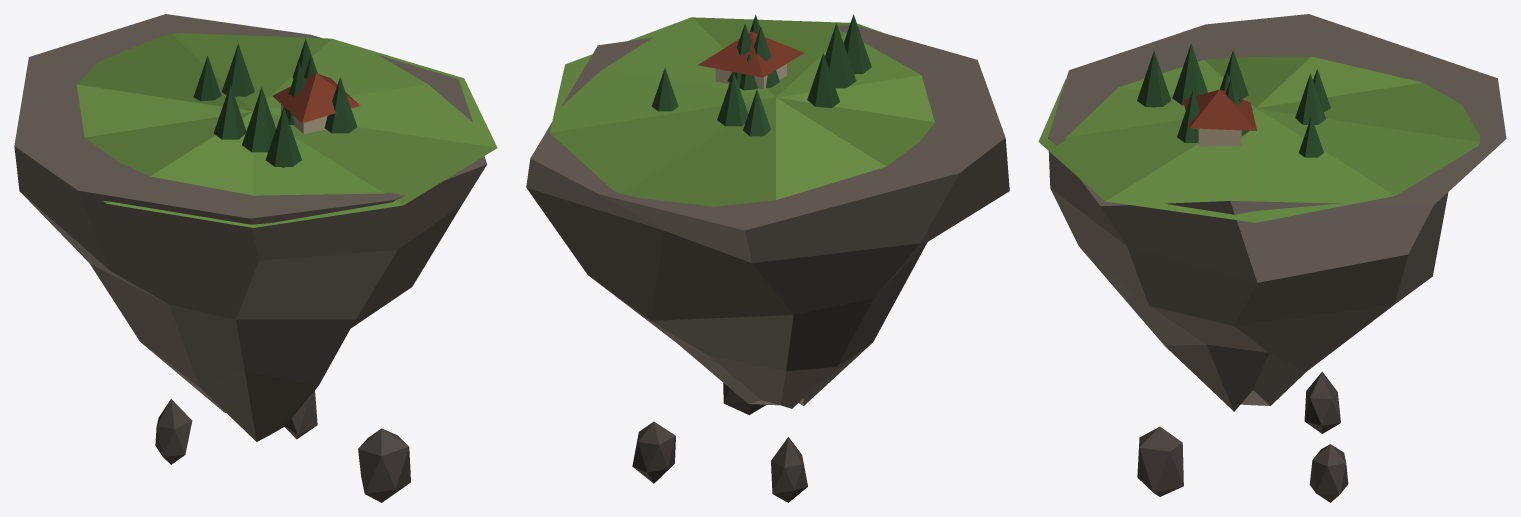
Rendered from floating_island_3.glb.
3 renders of one model, left to right at view 1: azimuth 30°, elevation 25°; view 2: azimuth 150°, elevation 25°; view 3: azimuth 270°, elevation 25°, orthographic. The views are drawn at different scales.
Parts seen in each view (by area): view 1: floating_island_3_rock, floating_island_3_grass_cap, floating_island_3_hanging_rock1, floating_island_3_house_roof, floating_island_3_hanging_rock2, floating_island_3_tree3_crown, floating_island_3_tree4_crown, floating_island_3_tree7_crown, floating_island_3_tree6_crown, floating_island_3_tree5_crown, floating_island_3_hanging_rock0, floating_island_3_tree2_crown; view 2: floating_island_3_rock, floating_island_3_grass_cap, floating_island_3_house_roof, floating_island_3_hanging_rock0, floating_island_3_hanging_rock2, floating_island_3_tree3_crown, floating_island_3_tree7_crown, floating_island_3_tree5_crown, floating_island_3_tree4_crown, floating_island_3_tree2_crown, floating_island_3_tree8_crown, floating_island_3_hanging_rock1 (+1 smaller); view 3: floating_island_3_rock, floating_island_3_grass_cap, floating_island_3_hanging_rock1, floating_island_3_house_roof, floating_island_3_hanging_rock0, floating_island_3_hanging_rock2, floating_island_3_tree4_crown, floating_island_3_tree3_crown, floating_island_3_tree5_crown, floating_island_3_house_wall, floating_island_3_tree6_crown, floating_island_3_tree8_crown (+1 smaller).
Boxes of the visible parts, left/top/right/bottom form: floating_island_3_rock: left=14, top=14, right=487, bottom=441; floating_island_3_grass_cap: left=76, top=33, right=497, bottom=227; floating_island_3_hanging_rock1: left=358, top=428, right=410, bottom=502; floating_island_3_house_roof: left=272, top=73, right=360, bottom=123; floating_island_3_hanging_rock2: left=155, top=399, right=192, bottom=464; floating_island_3_tree3_crown: left=242, top=87, right=275, bottom=152; floating_island_3_tree4_crown: left=265, top=107, right=301, bottom=166; floating_island_3_tree7_crown: left=213, top=84, right=246, bottom=139; floating_island_3_tree6_crown: left=324, top=77, right=357, bottom=133; floating_island_3_tree5_crown: left=221, top=44, right=254, bottom=96; floating_island_3_hanging_rock0: left=284, top=390, right=317, bottom=439; floating_island_3_tree2_crown: left=193, top=56, right=221, bottom=101; floating_island_3_rock: left=526, top=25, right=1009, bottom=408; floating_island_3_grass_cap: left=549, top=17, right=934, bottom=206; floating_island_3_house_roof: left=698, top=31, right=804, bottom=77; floating_island_3_hanging_rock0: left=632, top=421, right=675, bottom=483; floating_island_3_hanging_rock2: left=771, top=437, right=807, bottom=502; floating_island_3_tree3_crown: left=825, top=23, right=856, bottom=88; floating_island_3_tree7_crown: left=807, top=53, right=839, bottom=108; floating_island_3_tree5_crown: left=717, top=72, right=748, bottom=126; floating_island_3_tree4_crown: left=843, top=14, right=871, bottom=73; floating_island_3_tree2_crown: left=743, top=89, right=770, bottom=136; floating_island_3_tree8_crown: left=651, top=67, right=678, bottom=111; floating_island_3_hanging_rock1: left=723, top=383, right=766, bottom=415; floating_island_3_rock: left=1048, top=14, right=1506, bottom=411; floating_island_3_grass_cap: left=1038, top=56, right=1480, bottom=222; floating_island_3_hanging_rock1: left=1137, top=426, right=1183, bottom=496; floating_island_3_house_roof: left=1183, top=89, right=1256, bottom=130; floating_island_3_hanging_rock0: left=1309, top=444, right=1348, bottom=502; floating_island_3_hanging_rock2: left=1304, top=371, right=1340, bottom=433; floating_island_3_tree4_crown: left=1137, top=50, right=1171, bottom=106; floating_island_3_tree3_crown: left=1172, top=43, right=1207, bottom=105; floating_island_3_tree5_crown: left=1295, top=73, right=1325, bottom=124; floating_island_3_house_wall: left=1198, top=128, right=1241, bottom=146; floating_island_3_tree6_crown: left=1177, top=90, right=1199, bottom=142; floating_island_3_tree8_crown: left=1298, top=116, right=1323, bottom=157.
Bounding box in the file's own units: 173 × 170 × 176.
